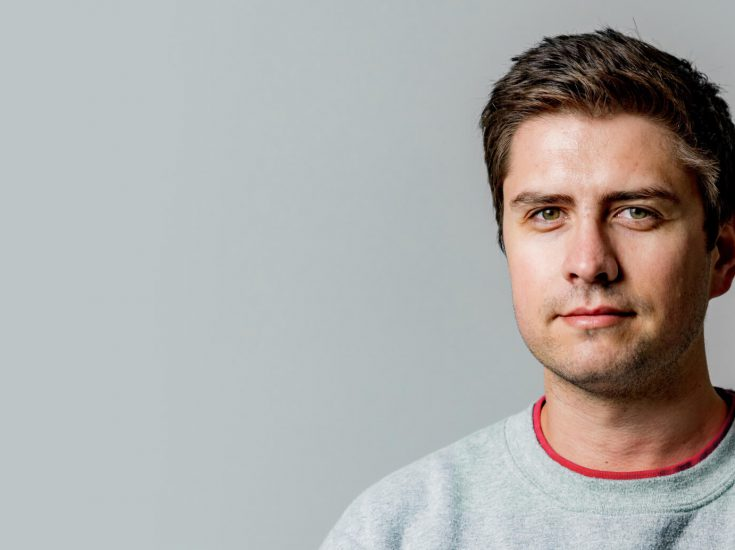Without Helmet: (455, 17, 735, 424)
